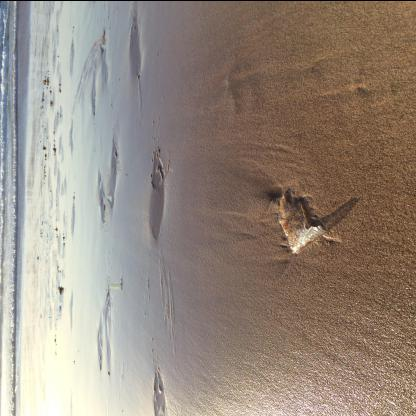plastik: (276, 190, 326, 252)
